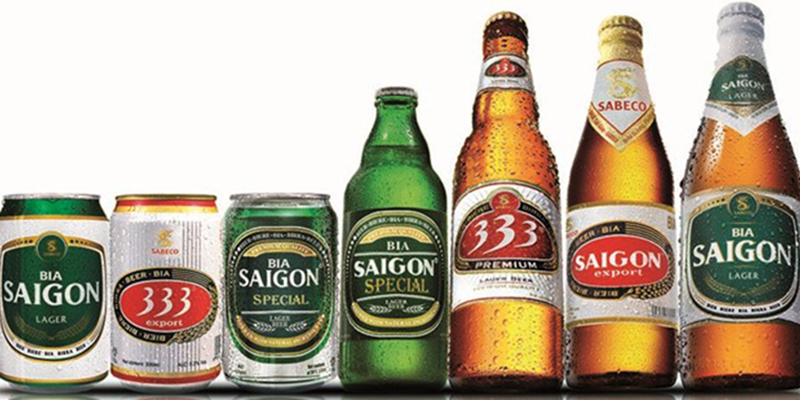333: (468, 212, 538, 258), (137, 283, 191, 321)
biasaigon: (694, 221, 793, 270), (4, 269, 100, 309), (354, 241, 436, 278), (239, 257, 320, 291), (576, 248, 663, 273), (719, 70, 766, 95)
